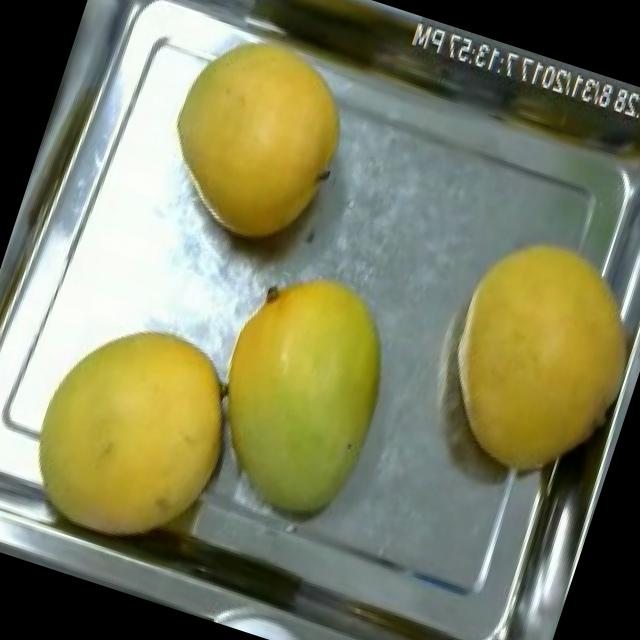fruit: (0, 292, 266, 576), (175, 242, 422, 544), (411, 210, 640, 505), (134, 5, 378, 273)
